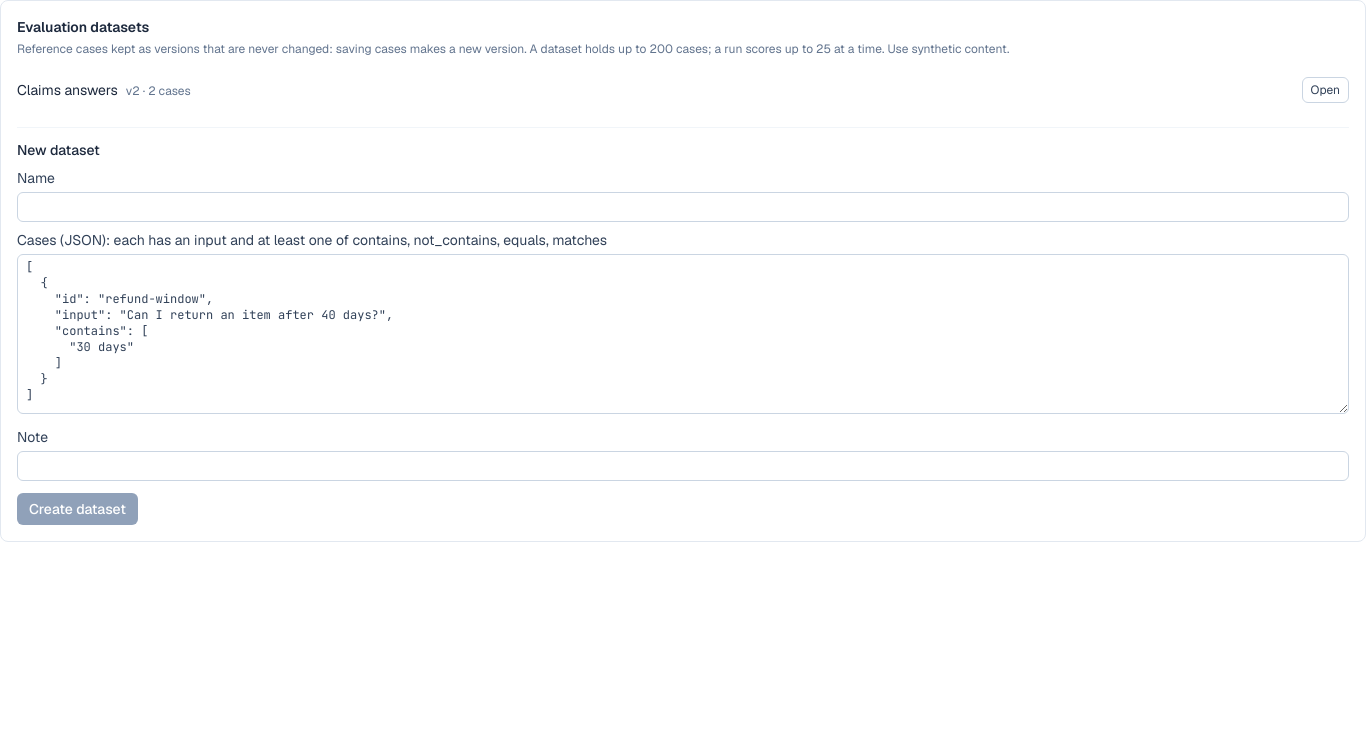
Test: EvalDatasets › saves edited cases as the next version, against the version that was opened
Click the button with test id "eval-dataset-open-d1". click: {"x": 1325, "y": 90}
box: left=1302, top=77, right=1349, bottom=103
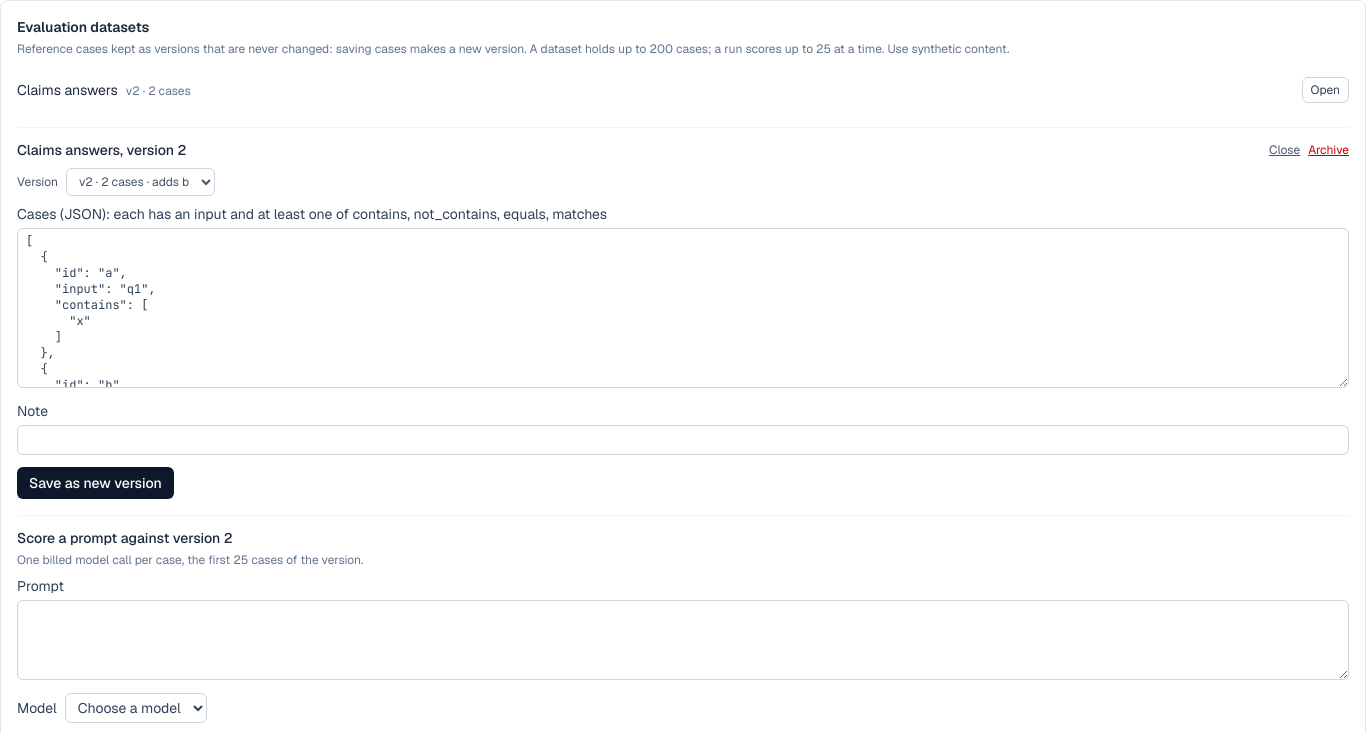
Expected: the heading with test id "eval-dataset-heading" reads "Claims answers, version 2", left=17, top=141, right=186, bottom=159
Type "tightens b" into the field with test id "eval-dataset-note". click: {"x": 683, "y": 440}
box: left=17, top=425, right=1349, bottom=455
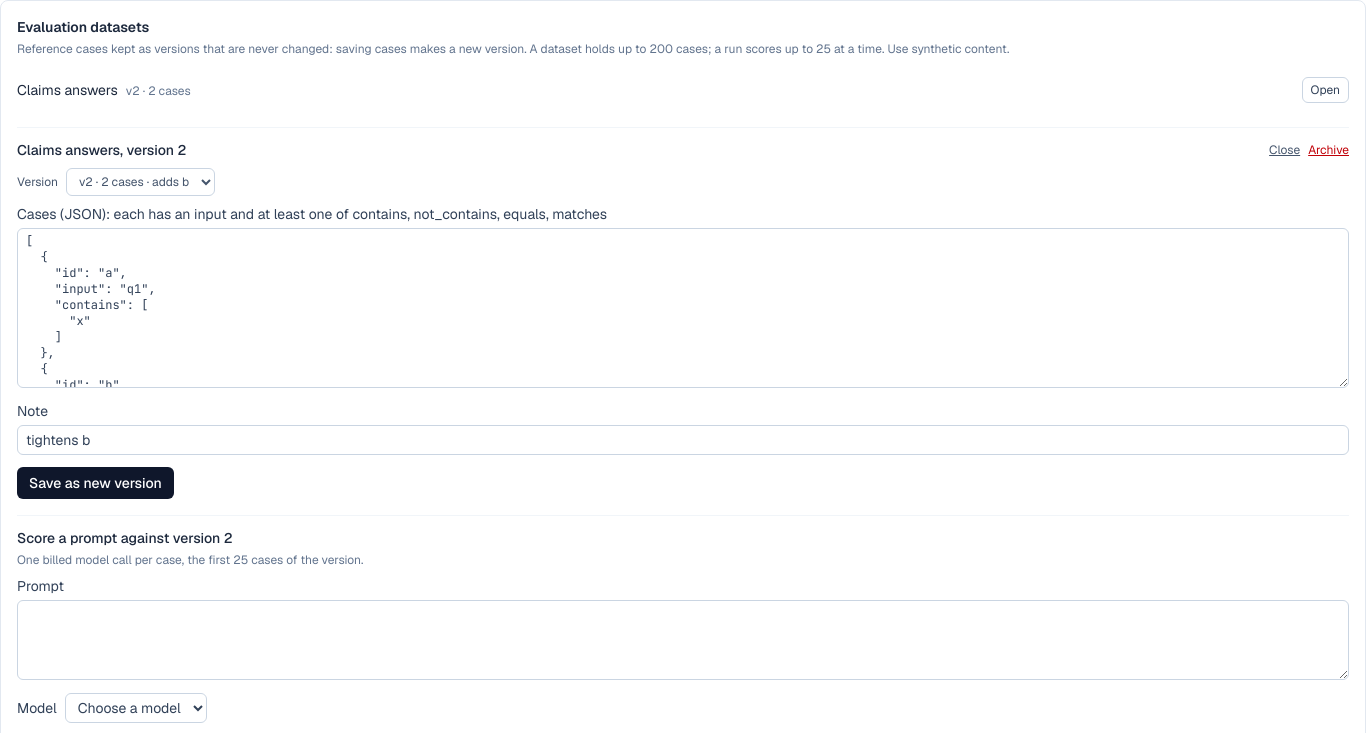
Click the button with test id "eval-dataset-save". click: {"x": 95, "y": 483}
box: left=17, top=467, right=174, bottom=499
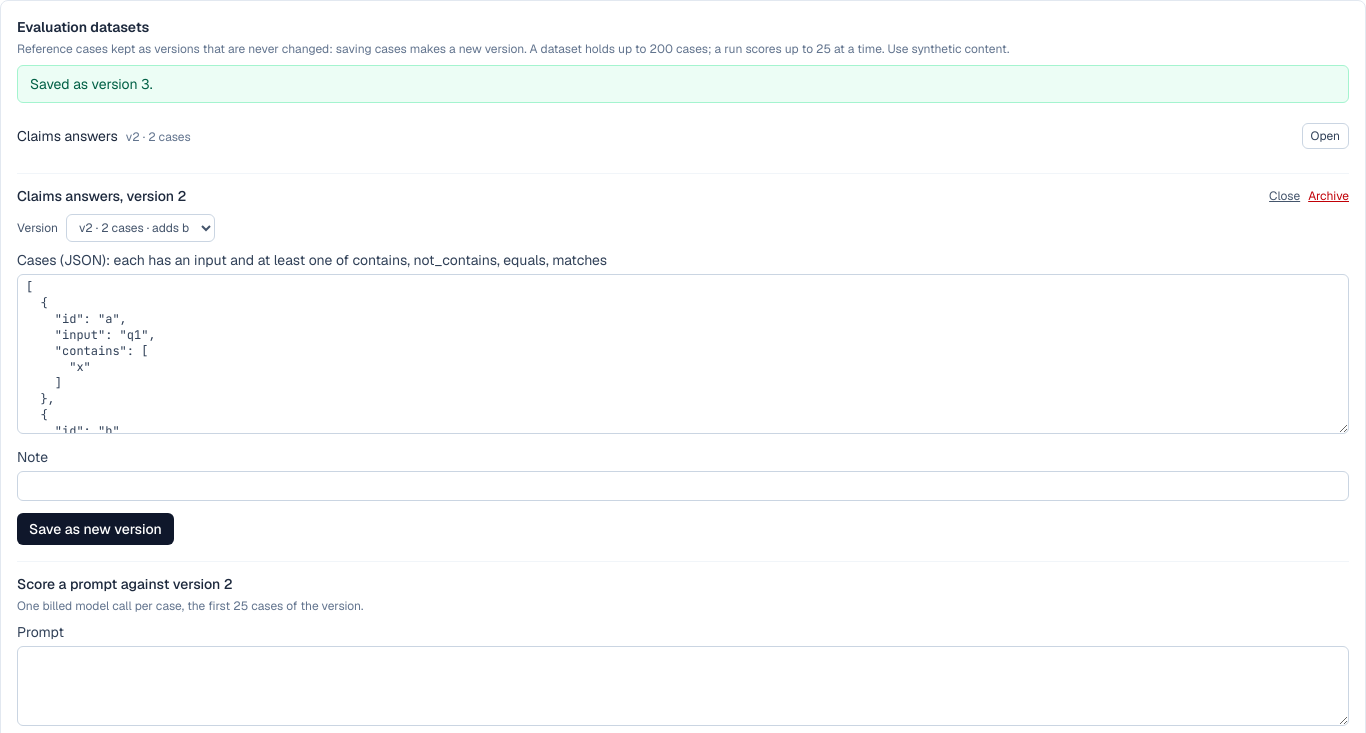
Expected: the message reads "Saved as version 3.", left=30, top=75, right=152, bottom=93
